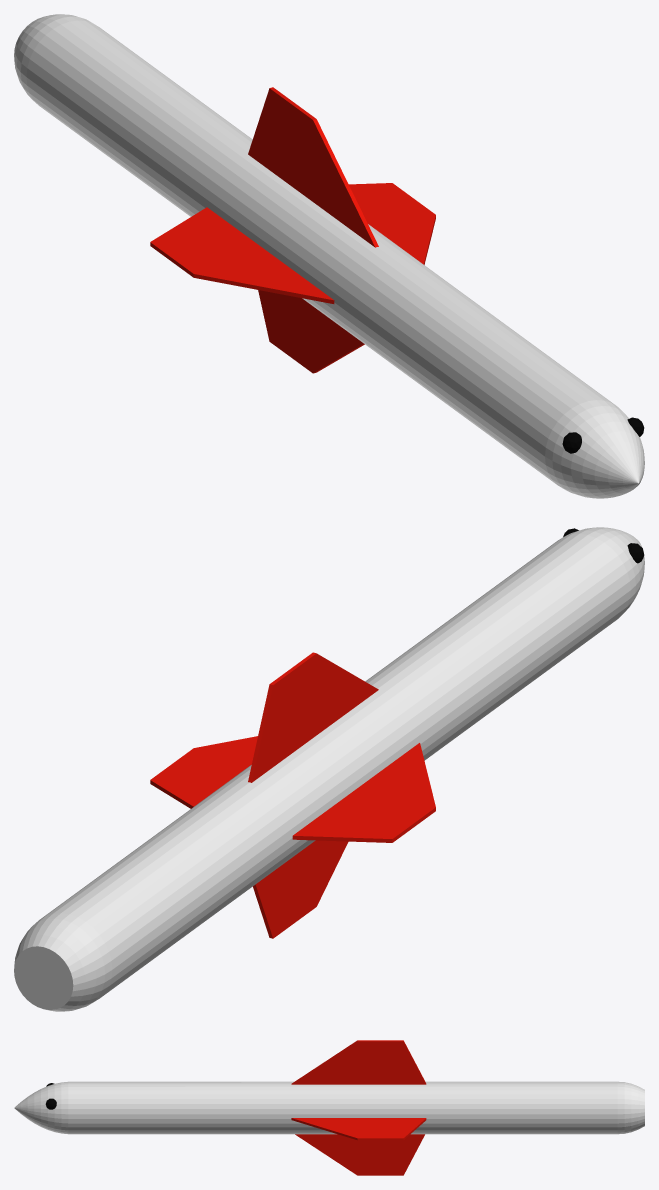
File: missile1.fbx
3 views of the same model, one above another, from view 1: azimuth 30°, elevation 25°; view 2: azimuth 150°, elevation 25°; view 3: azimuth 270°, elevation 25° (orthographic). The views are drawn at different scales.
Visible parts, largest first — view 1: Cylinder, Cube.001, Cube; view 2: Cylinder, Cube.001, Cube; view 3: Cylinder, Cube.001, Cube.
Boxes of the visible parts, x1=… form: Cylinder: x1=14, y1=14, x2=644, y2=498; Cube.001: x1=248, y1=87, x2=378, y2=373; Cube: x1=150, y1=183, x2=435, y2=303; Cylinder: x1=14, y1=527, x2=644, y2=1011; Cube.001: x1=248, y1=652, x2=378, y2=938; Cube: x1=150, y1=736, x2=435, y2=842; Cylinder: x1=14, y1=1081, x2=644, y2=1134; Cube.001: x1=291, y1=1040, x2=426, y2=1175; Cube: x1=291, y1=1118, x2=426, y2=1140.
Bounding box in the file's own units: 35.85 × 35.85 × 153.
